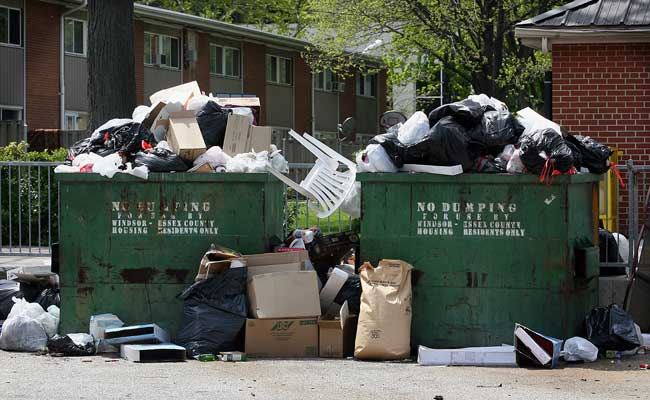Dumpster: (354, 170, 600, 340), (53, 161, 286, 322)
